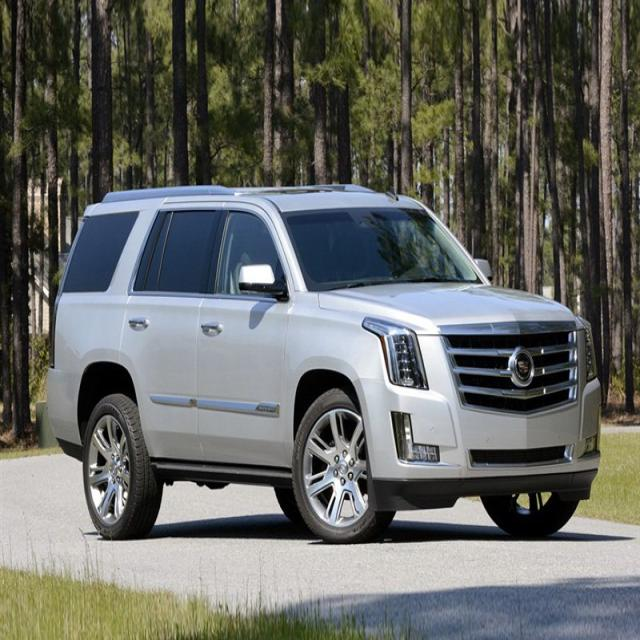door: (132, 202, 227, 465)
front_bumper: (349, 370, 604, 502)
front_glass: (282, 204, 483, 294)
front_left_side_light: (578, 320, 598, 382)
front_right_side_door: (193, 198, 294, 475)
front_right_side_light: (359, 315, 431, 392)
front_right_side_mirror: (237, 257, 283, 304)
wheel: (294, 388, 384, 541), (81, 392, 162, 537), (479, 491, 576, 537)
